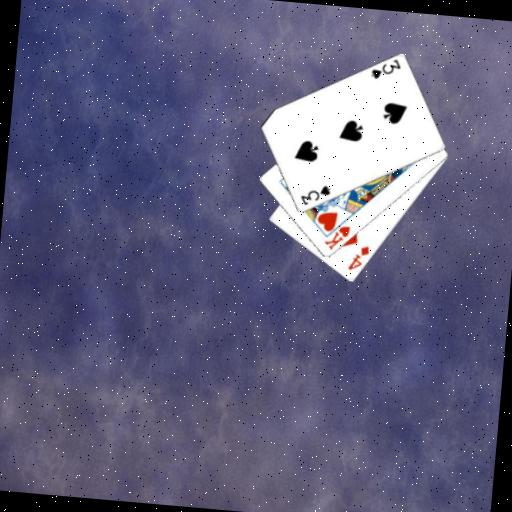3S: (367, 54, 403, 83), (297, 181, 333, 209)
4D: (344, 242, 371, 274)
KH: (321, 222, 352, 254)
